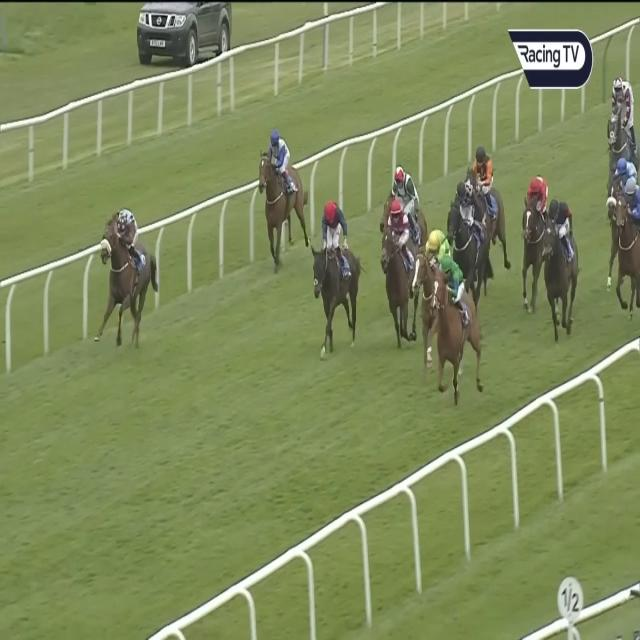horses-racing: (99, 202, 154, 340), (254, 128, 308, 252), (312, 204, 359, 338), (432, 249, 471, 402), (546, 194, 580, 326), (447, 178, 488, 285), (380, 198, 412, 332), (616, 177, 640, 317), (416, 220, 446, 326), (607, 75, 640, 166), (471, 138, 505, 219), (523, 175, 545, 298), (386, 160, 422, 217), (606, 160, 636, 216)
